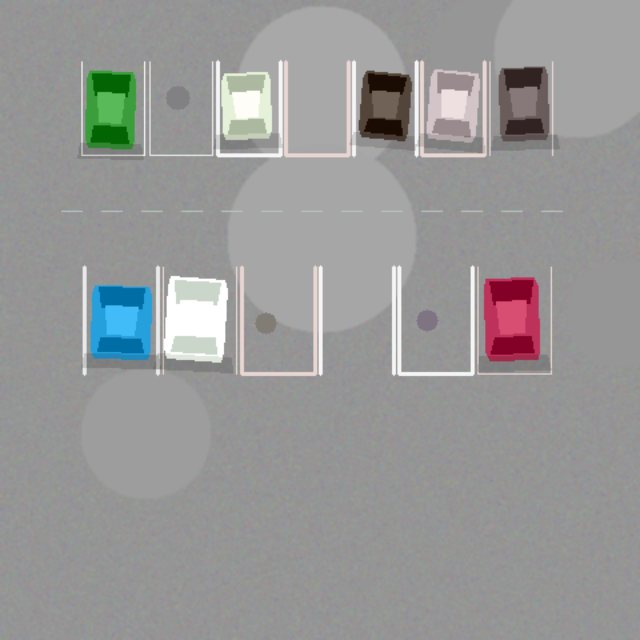space-empty: (241, 267, 315, 373), (320, 267, 393, 373), (399, 267, 472, 373), (149, 61, 212, 155), (285, 61, 348, 155)
space-occupied: (477, 267, 551, 373), (84, 267, 157, 373), (163, 267, 236, 373), (81, 61, 144, 155), (217, 61, 280, 155), (353, 61, 416, 155), (421, 61, 484, 155), (489, 61, 552, 155)
